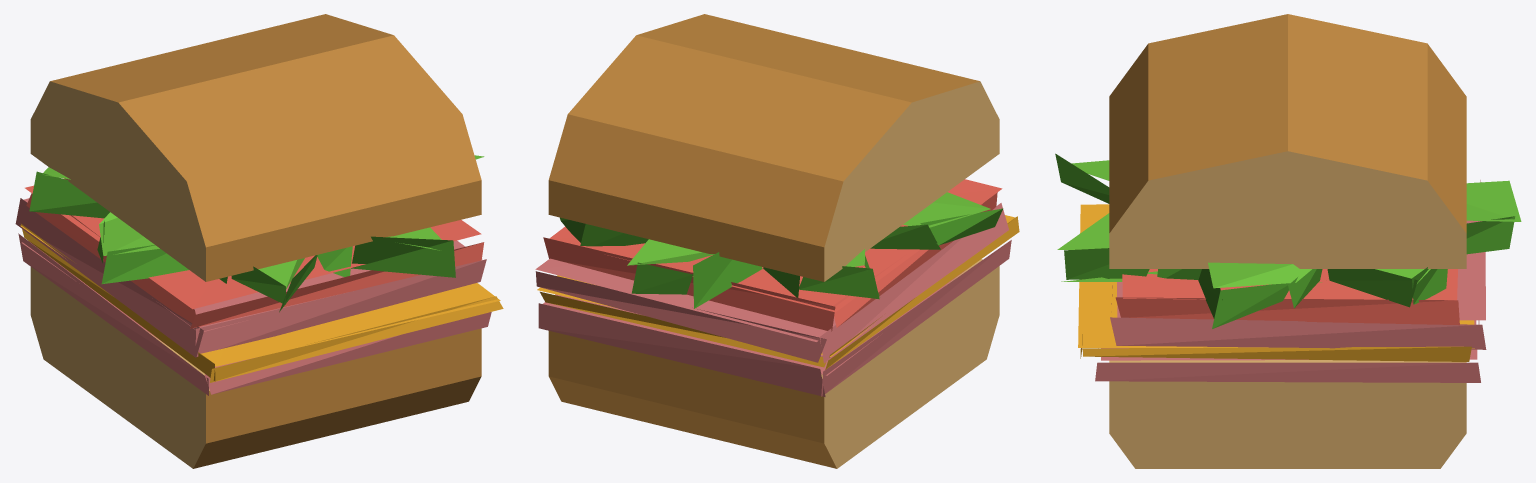
The model's file is food_sandwich_section.glb.
The picture shows the model from 3 angles, left to right: view 1: azimuth 30°, elevation 25°; view 2: azimuth 150°, elevation 25°; view 3: azimuth 270°, elevation 25°; orthographic projection.
Visible parts, largest first — view 1: food_sandwich_section; view 2: food_sandwich_section; view 3: food_sandwich_section.
Boxes of the visible parts, left/top/right/bottom form: food_sandwich_section: left=15, top=14, right=503, bottom=468; food_sandwich_section: left=535, top=14, right=1019, bottom=468; food_sandwich_section: left=1055, top=14, right=1521, bottom=468.
Size of the model in its own units: 0.1405 by 0.108 by 0.1451.
